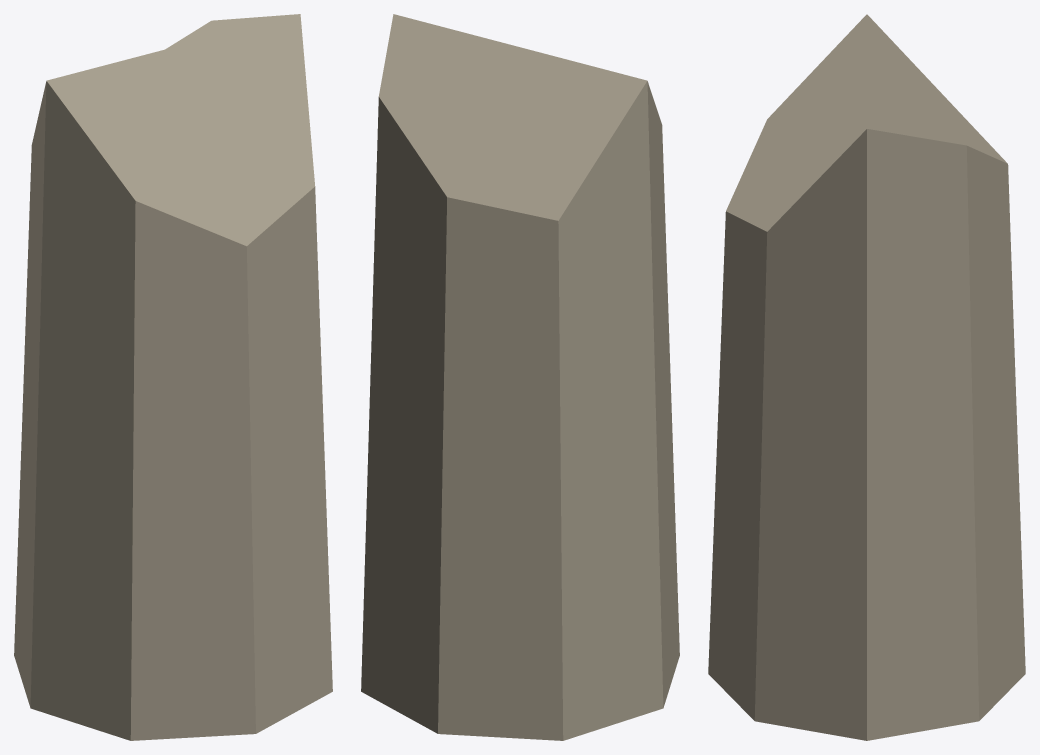
Rendered from pillar_stub.glb.
The picture shows the model from 3 angles, left to right: view 1: azimuth 30°, elevation 25°; view 2: azimuth 150°, elevation 25°; view 3: azimuth 270°, elevation 25°; orthographic projection. The views are drawn at different scales.
Visible parts, largest first — view 1: pillar_stub; view 2: pillar_stub; view 3: pillar_stub.
Part boxes in pixels (x1,y1,x2,y2): pillar_stub: [14, 14, 332, 740]; pillar_stub: [361, 14, 679, 740]; pillar_stub: [708, 14, 1025, 740].
Bounding box in the file's own units: 0.9 × 1.89 × 0.9.
